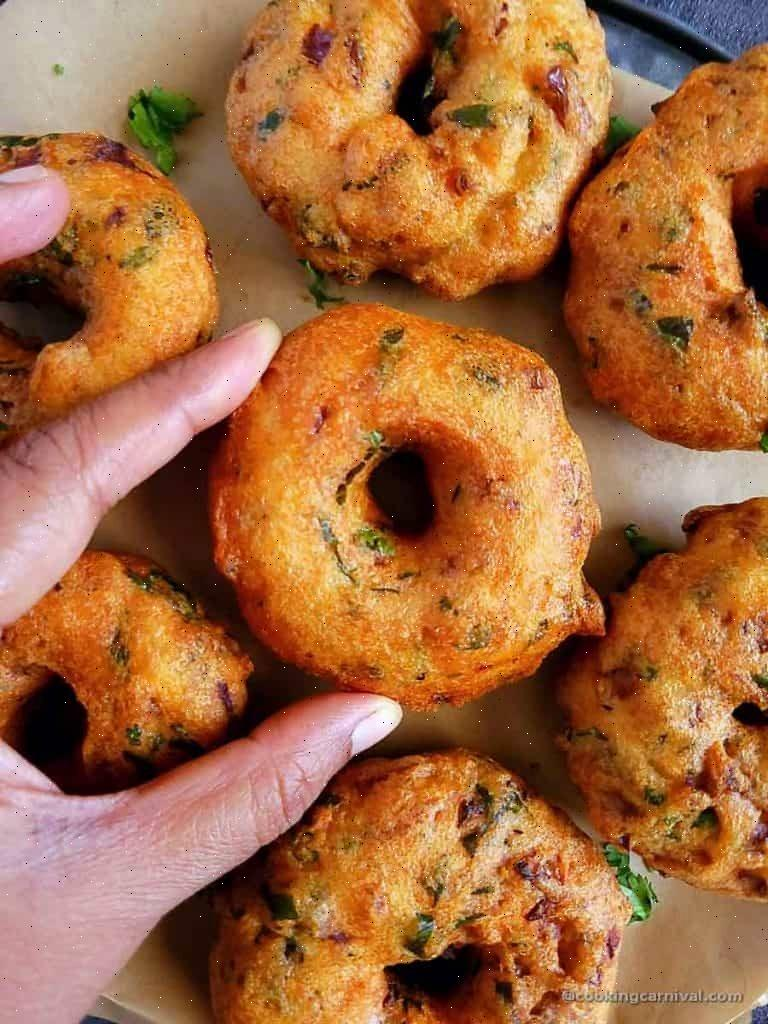medu vada: (207, 0, 768, 699)
